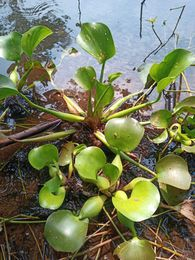water_hyacinth: (1, 21, 195, 260)
